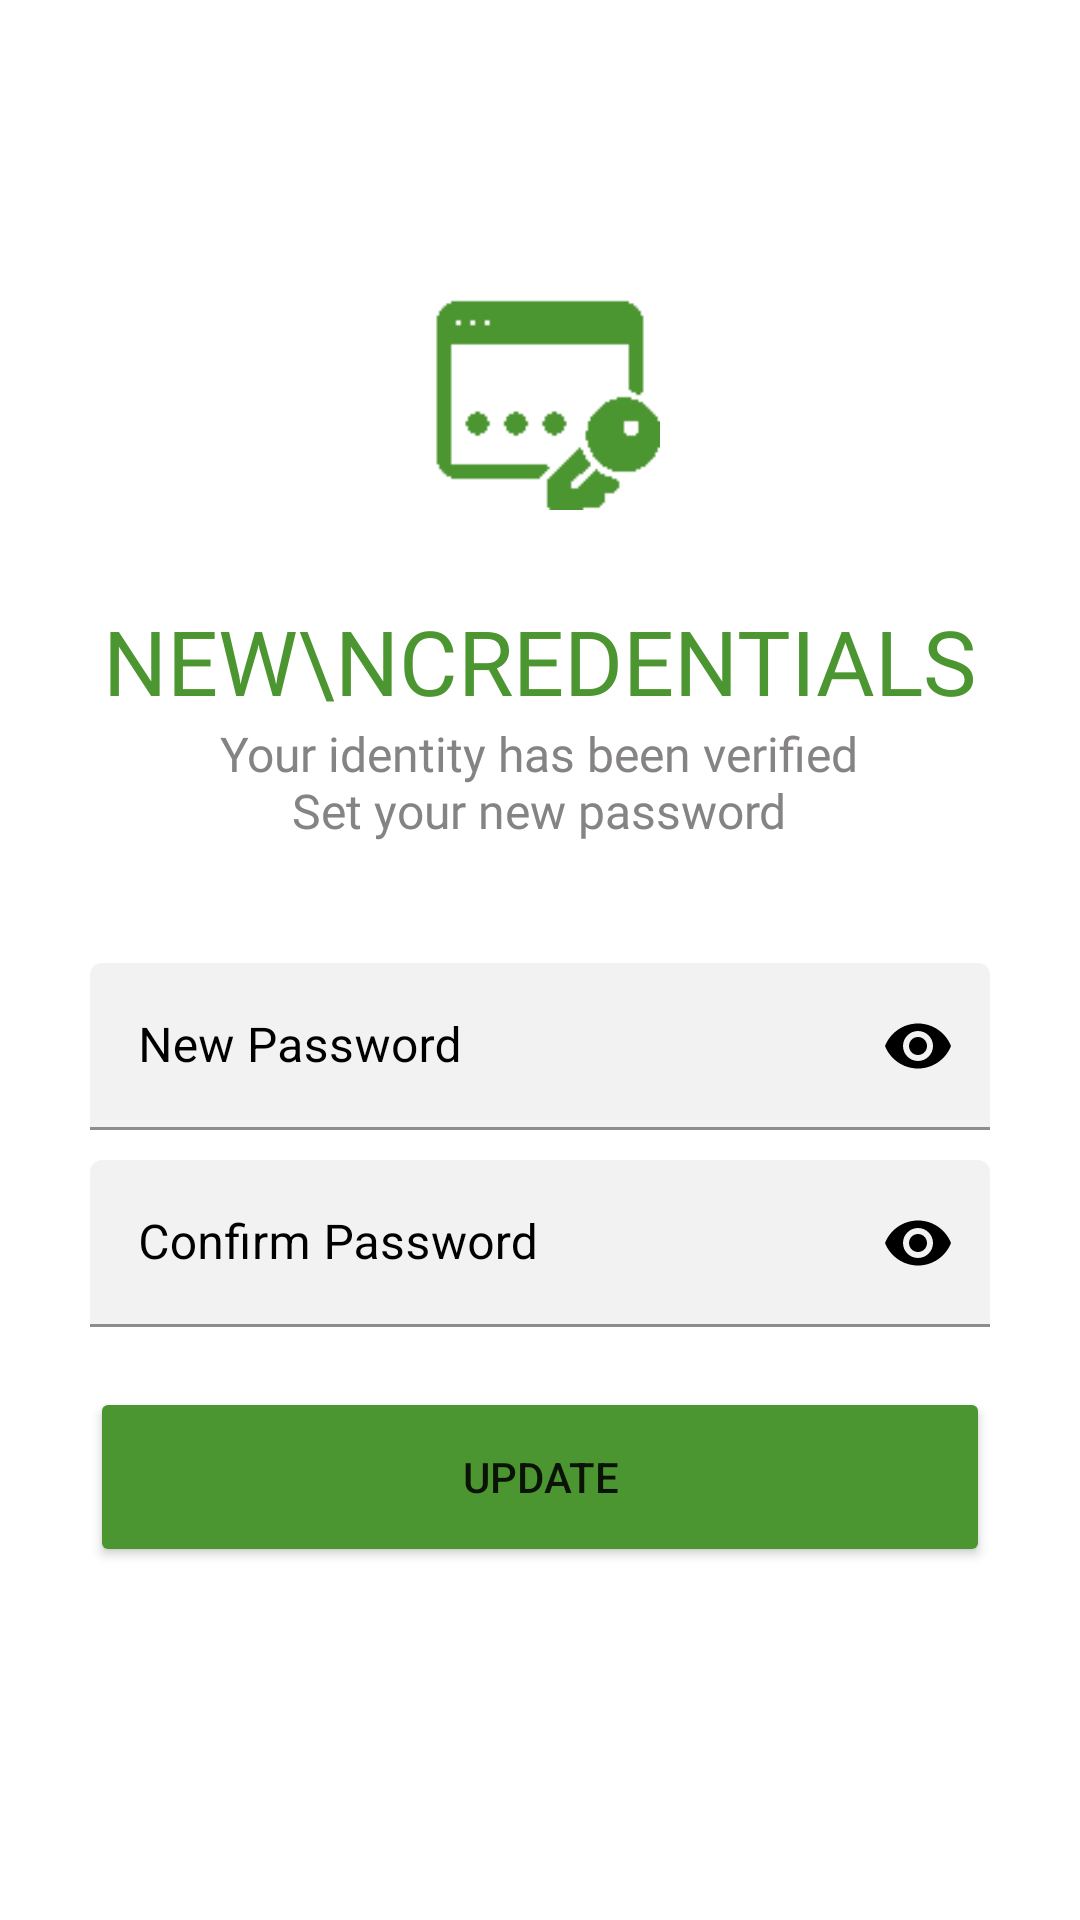

Locate icon controls on the screen. Image size 1080x1920, boxes as region(x1, y1, x2, y2).
update password: region(436, 300, 660, 510)
